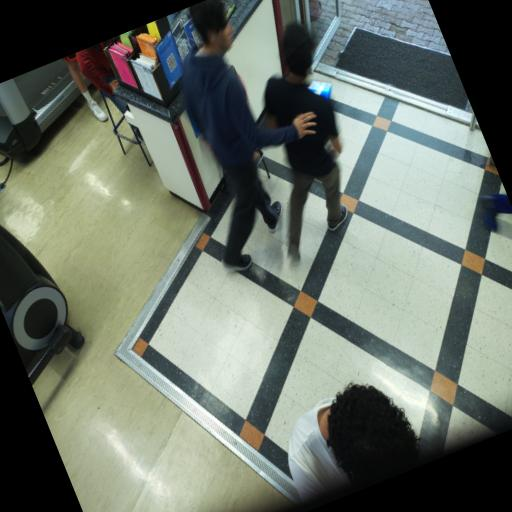person: (183, 0, 315, 271), (264, 24, 346, 260), (288, 384, 419, 502), (75, 42, 126, 114), (63, 54, 107, 122), (478, 194, 511, 231)
